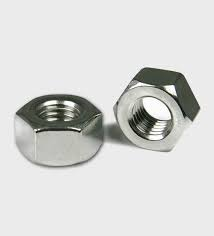Thread: (126, 90, 178, 142), (25, 95, 92, 127)
